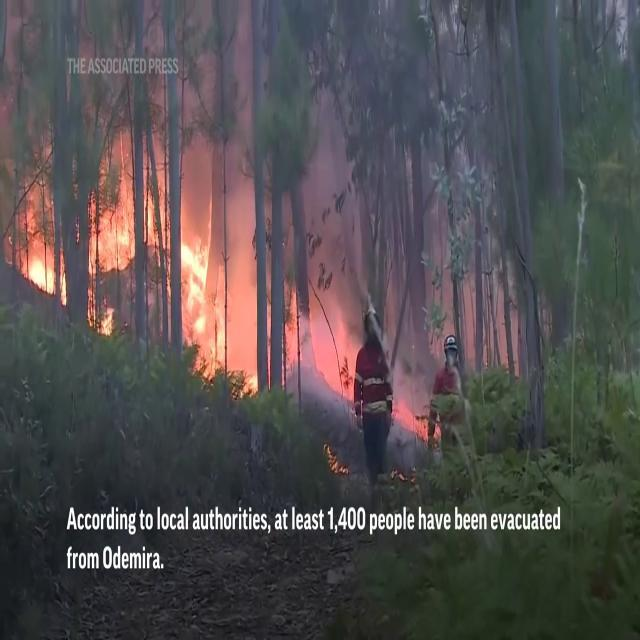Fire: (86, 120, 164, 294), (178, 214, 252, 393), (10, 158, 66, 302)
Smoke: (199, 2, 381, 306)
